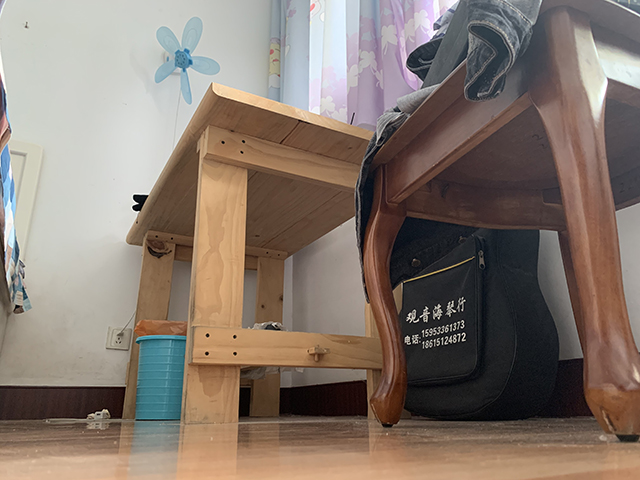stool: (361, 1, 639, 443)
table: (121, 80, 375, 424)
trashcan: (134, 334, 187, 421)
wire: (45, 407, 111, 422)
